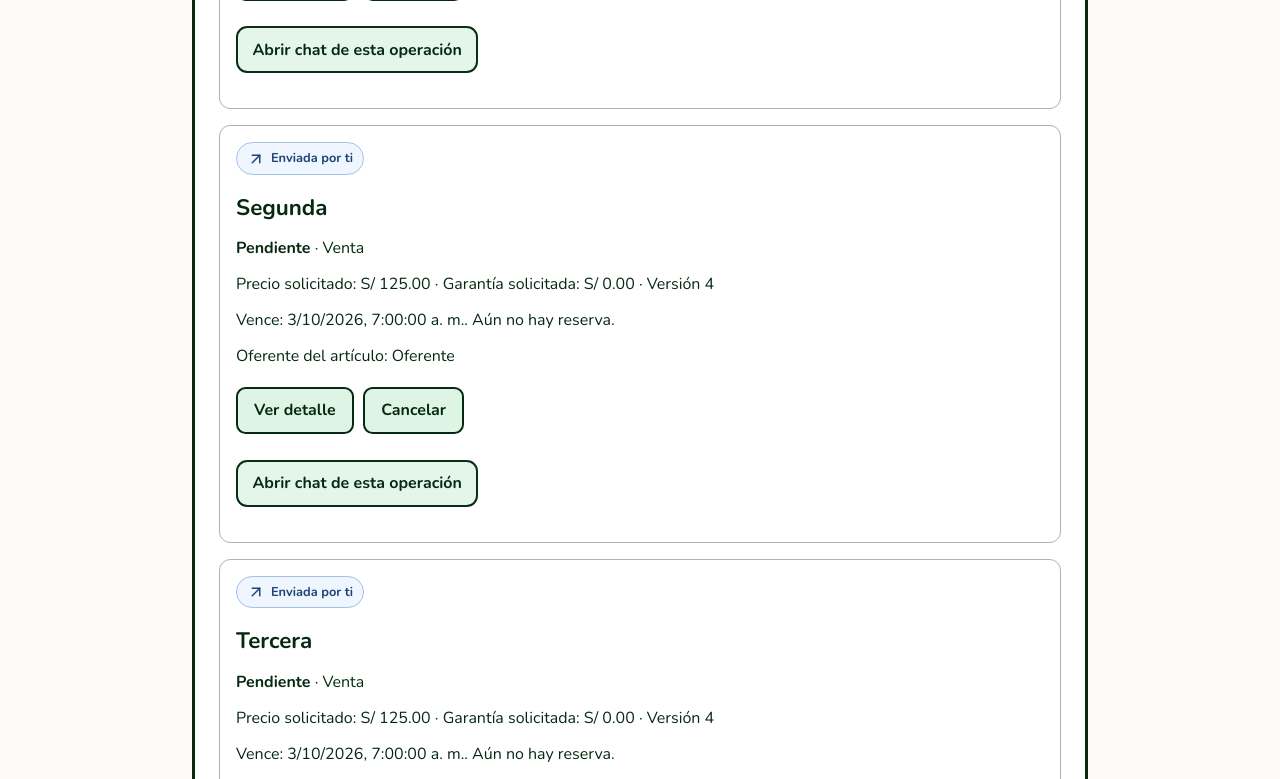
Test case: renders Cancelar confirmation beneath the selected request, not after the list
(page scrolled)
Click the button "Cancelar" below "Segunda": point(414, 410) [363,387,464,434]
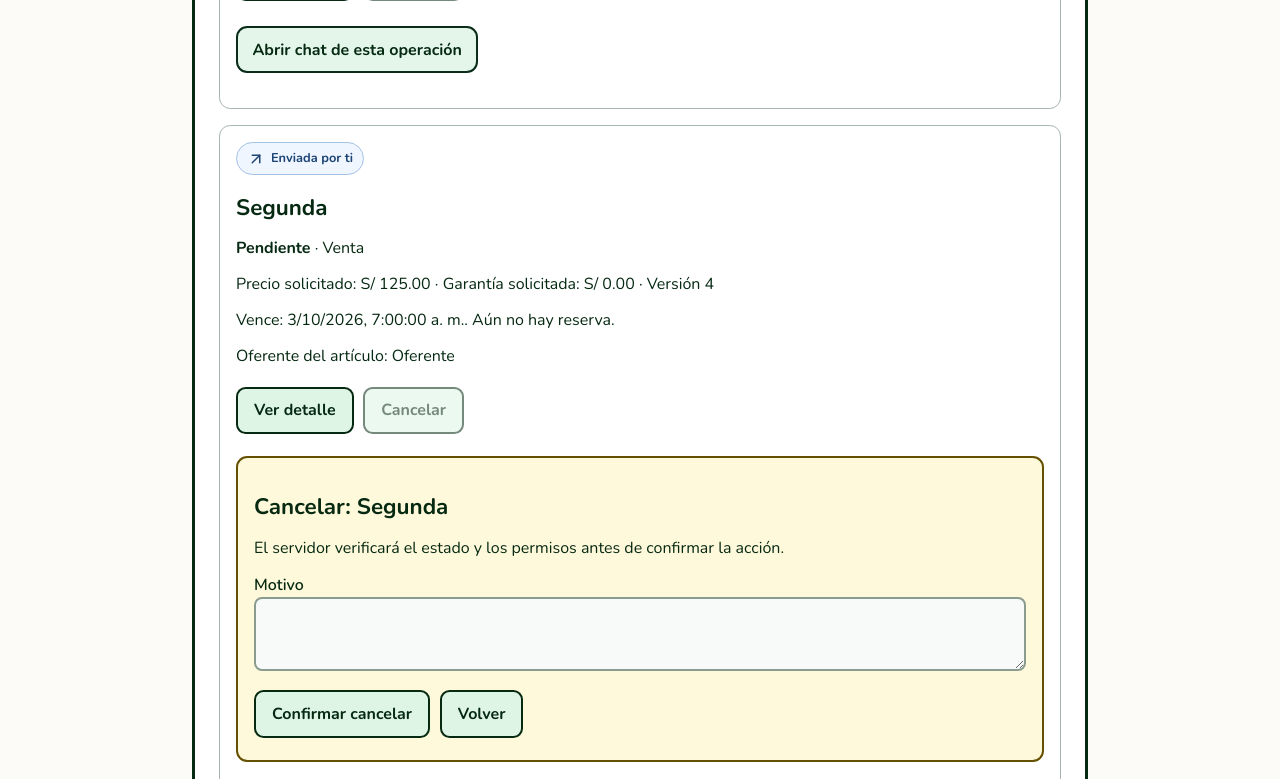
Click the button "Volver": point(482, 714) [440,690,524,738]
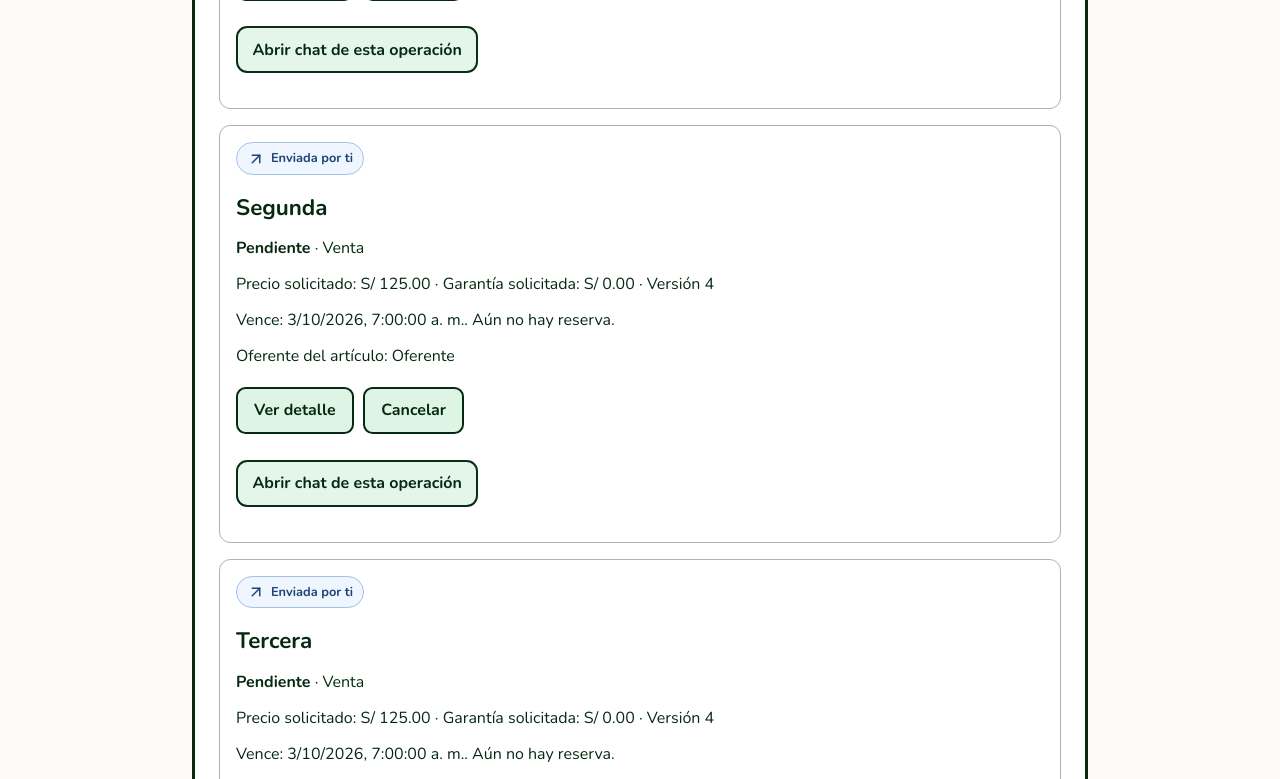
Result: the dialog is gone
